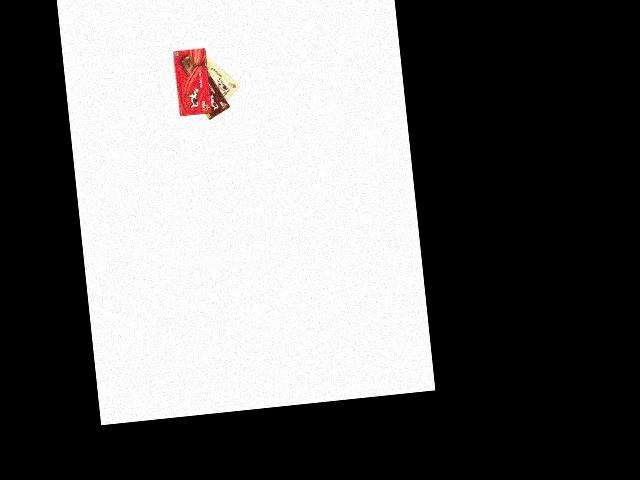chocolate: (199, 46, 243, 110)
